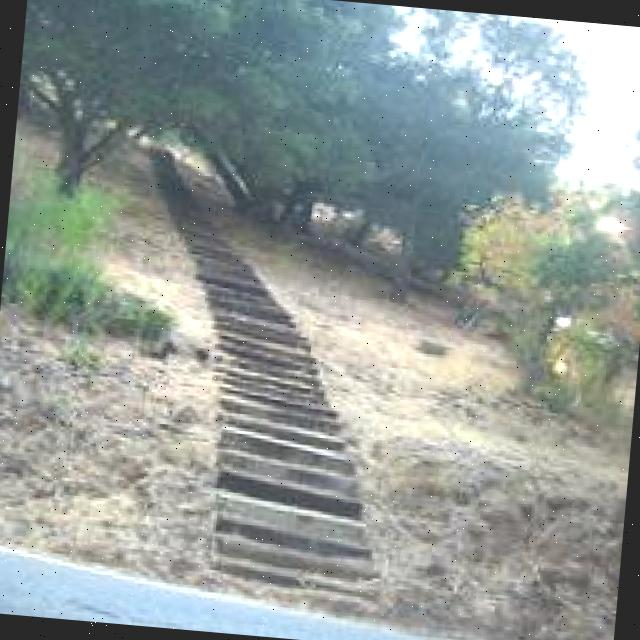stairs: (71, 70, 420, 614)
